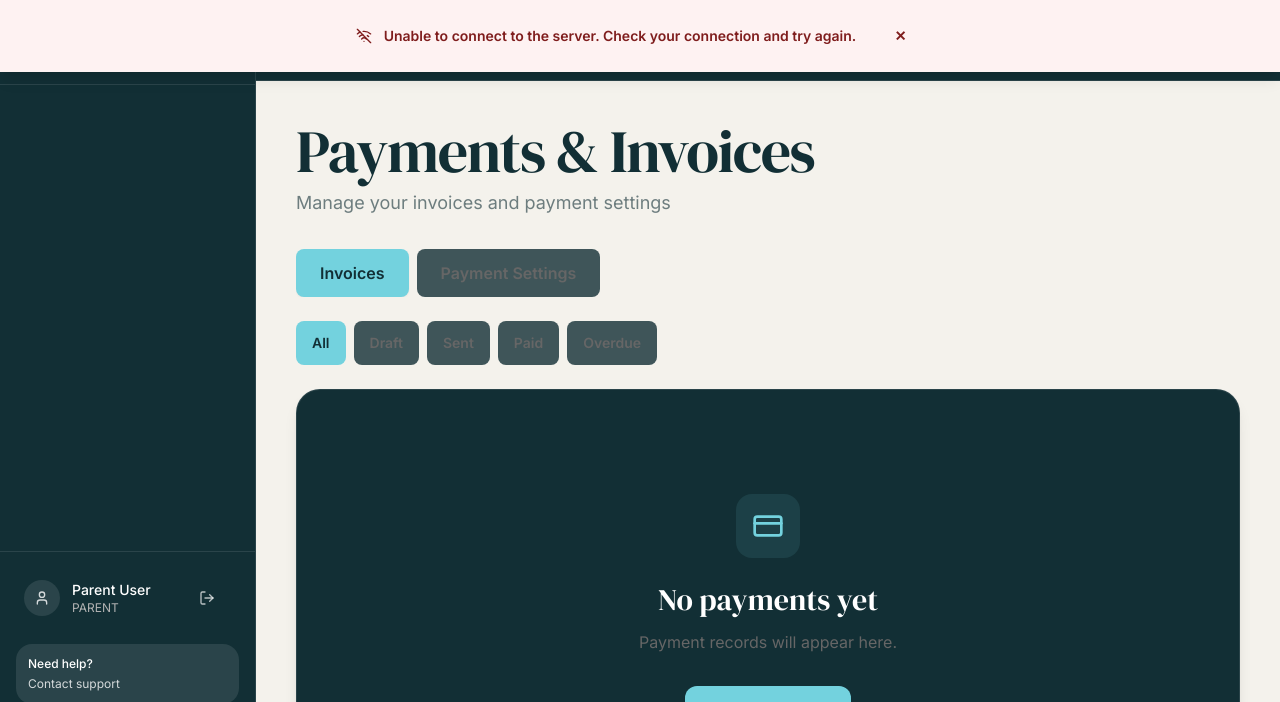
Test: Payments page settings tab without a payment provider › keeps the existing Direct Debit settings content for a GoCardless club
Click the button "Payment Settings".
click(508, 273)  # box top-left (417, 249), bottom-right (600, 297)
(page scrolled)
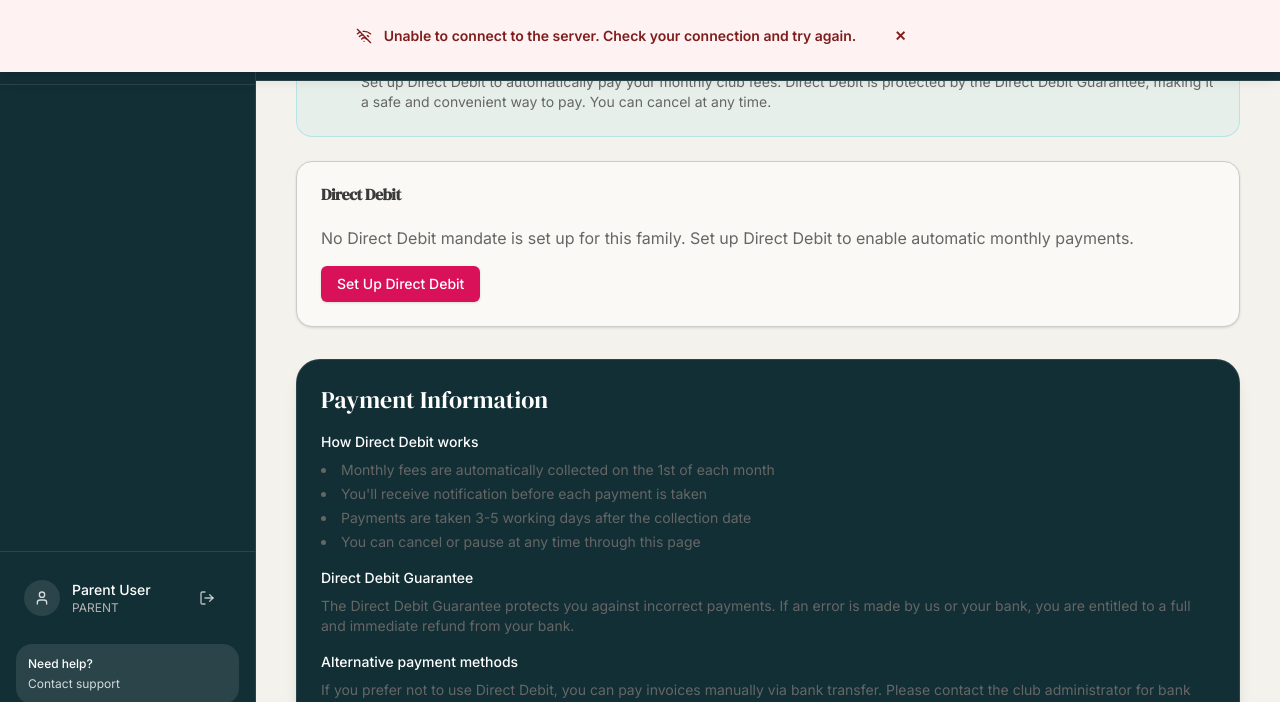
Now the heading "Payment Information" is shown, box top-left (321, 383), bottom-right (548, 416)
